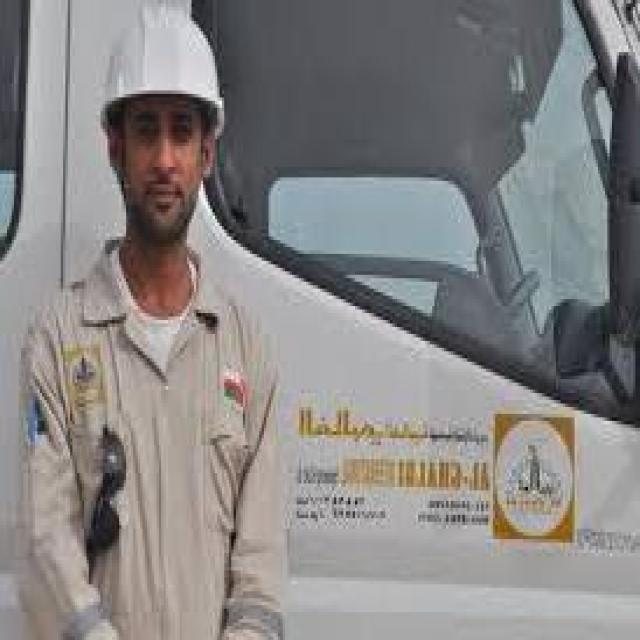Safety-Helmet: (89, 11, 234, 139)
